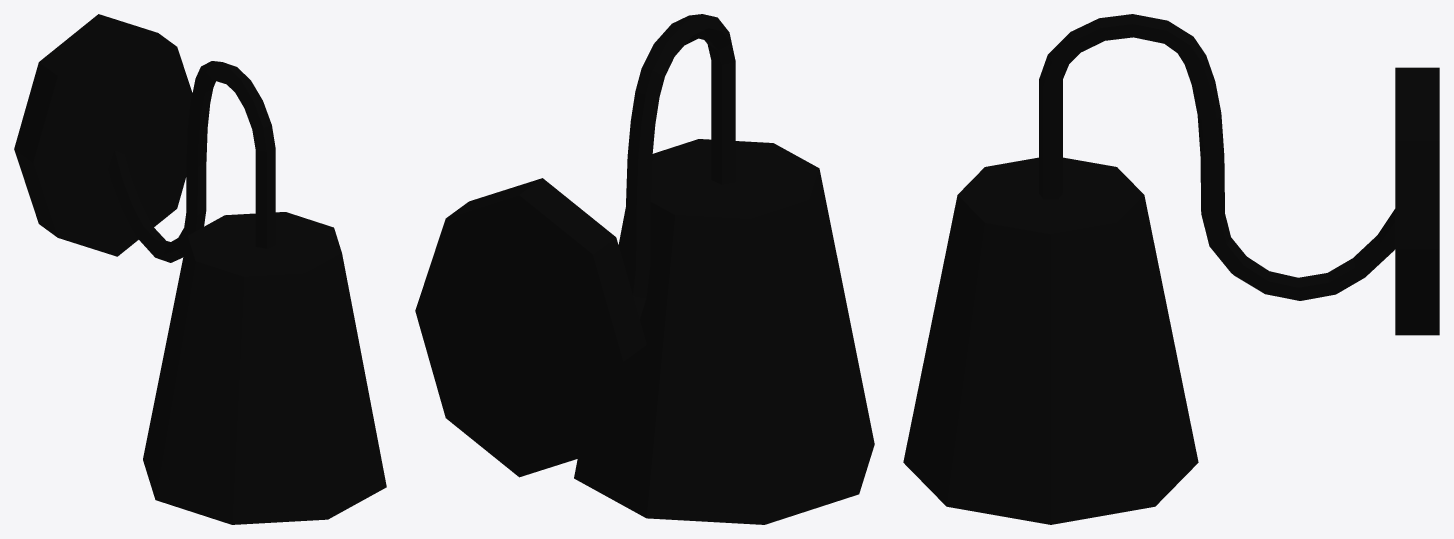
The model's file is WallLight_Off.glb.
3 renders of one model, left to right at view 1: azimuth 30°, elevation 25°; view 2: azimuth 150°, elevation 25°; view 3: azimuth 270°, elevation 25°, orthographic. The views are drawn at different scales.
Parts seen in each view (by area): view 1: wallLight_Off; view 2: wallLight_Off; view 3: wallLight_Off.
Boxes of the visible parts, x1,y1,x2,y2 form: wallLight_Off: (14, 14, 386, 524); wallLight_Off: (415, 14, 874, 524); wallLight_Off: (903, 14, 1439, 524).
Size of the model in its own units: 0.3065 by 0.5295 by 0.5567.
1 material, 1 textured.
